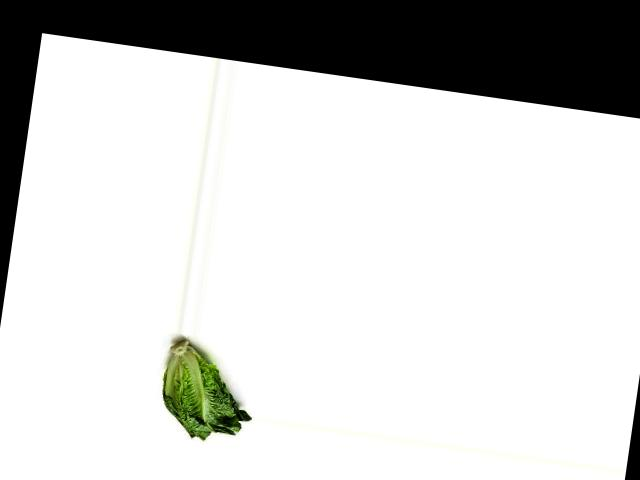lettuce: (152, 340, 259, 450)
